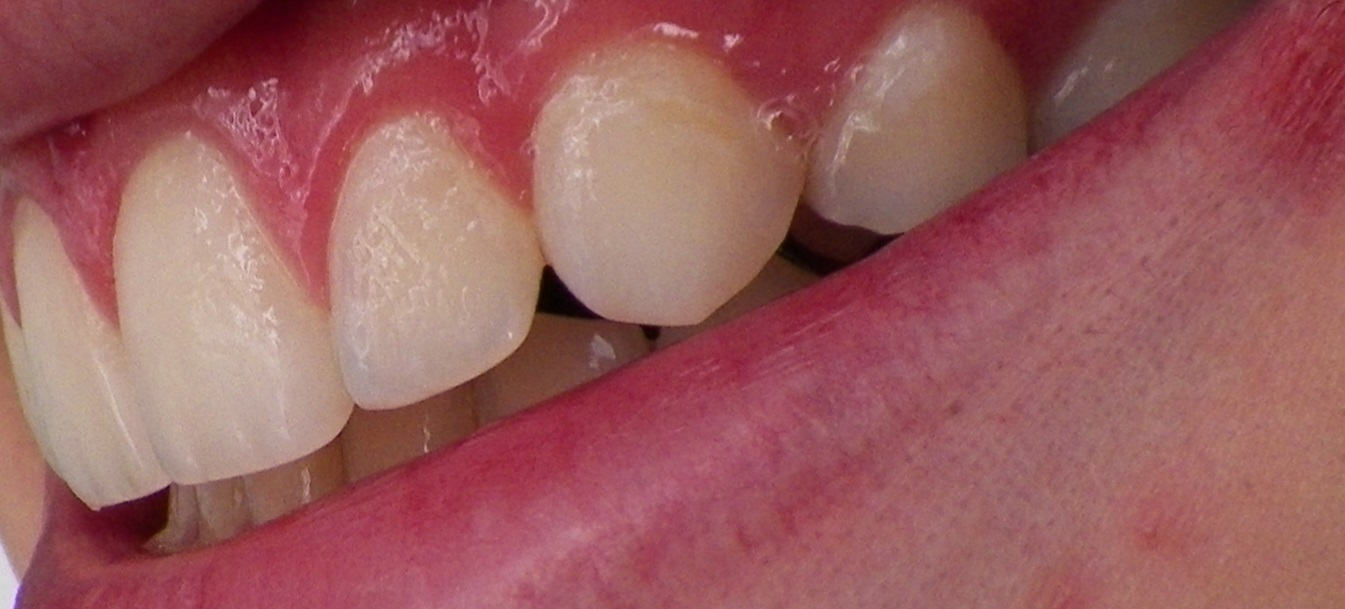boca: (14, 4, 1255, 557)
